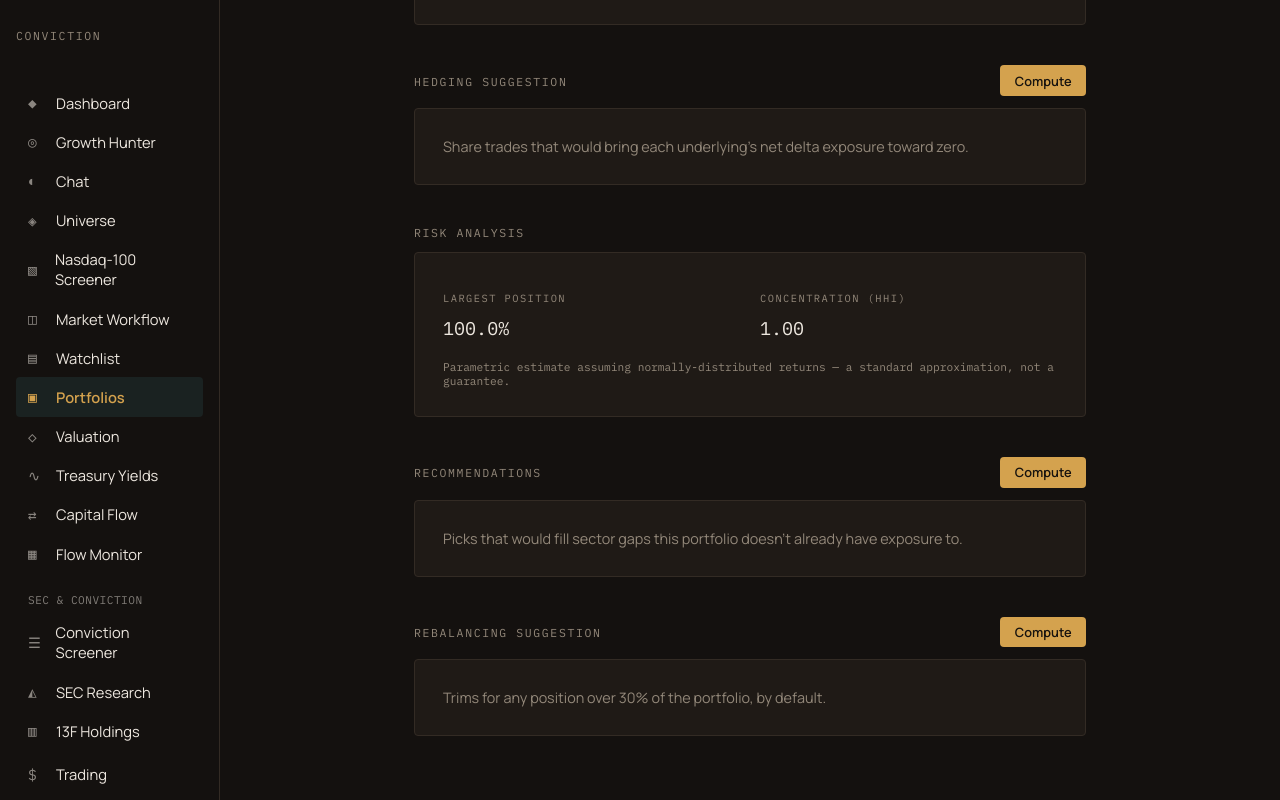
Test: Portfolio detail page › clicking Compute on Recommendations renders a real pick
This screenshot has width=1280, height=800.
(page scrolled)
Check: the text "Recommendations" is shown, box [414,465,542,480]
Step 1. Click the button "Compute" in the row of "Recommendations" → (1043, 472), box [1000,457,1086,488]
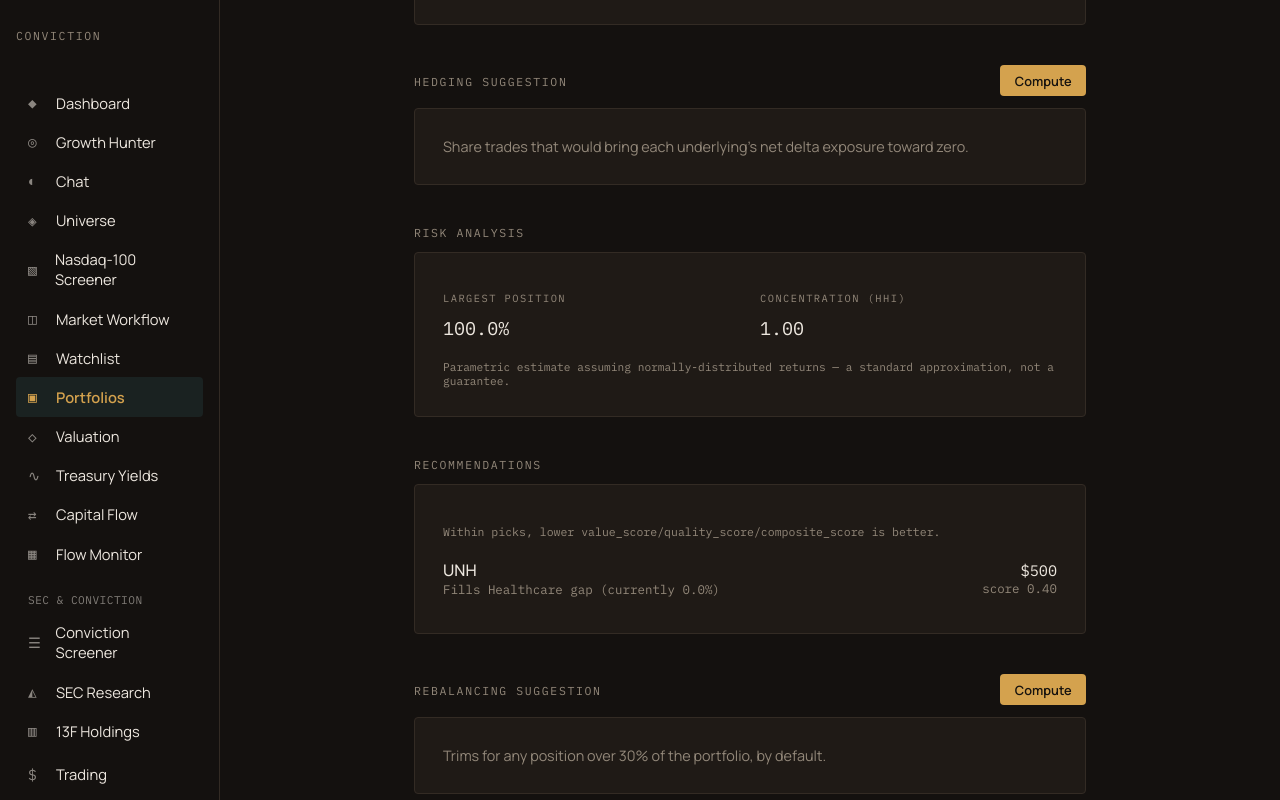
Check: the text "UNH" is shown, box [443,559,477,581]
Check: the text "Fills Healthcare gap (currently 0.0%)" is shown, box [443,581,720,597]
